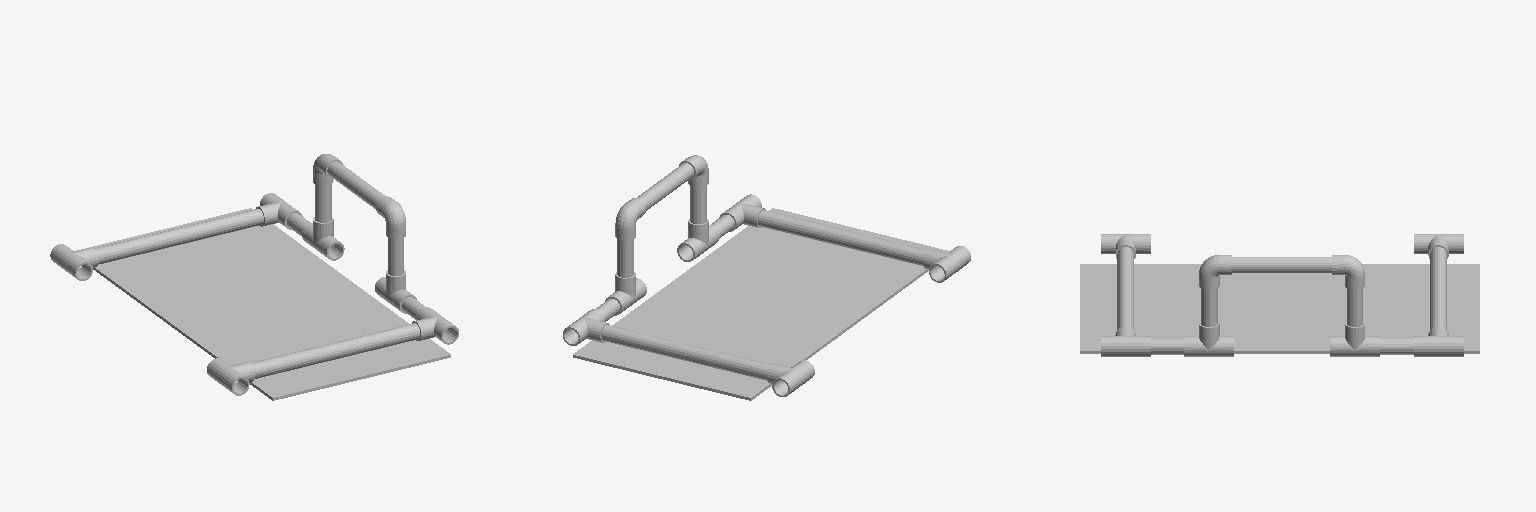
File: dzwignia_update (1).obj
3 renders of one model, left to right at view 1: azimuth 30°, elevation 25°; view 2: azimuth 150°, elevation 25°; view 3: azimuth 270°, elevation 25°, orthographic.
Visible parts, largest first — view 1: Bryła7, Bryła5, Bryła2, Bryła1, Bryła6, Bryła11, Bryła3, Bryła14, Bryła15, Bryła10, Bryła4, Bryła12 (+2 smaller); view 2: Bryła7, Bryła2, Bryła5, Bryła6, Bryła1, Bryła10, Bryła4, Bryła14, Bryła13, Bryła11, Bryła3, Bryła16 (+2 smaller); view 3: Bryła7, Bryła14, Bryła5, Bryła2, Bryła10, Bryła11, Bryła3, Bryła4, Bryła1, Bryła6, Bryła15, Bryła13 (+4 smaller).
Boxes of the visible parts, <box> form: Bryła7: <box>76,208,450,400</box>; Bryła5: <box>82,209,263,265</box>; Bryła2: <box>238,323,419,381</box>; Bryła1: <box>207,358,254,395</box>; Bryła6: <box>50,244,98,280</box>; Bryła11: <box>302,217,344,260</box>; Bryła3: <box>412,307,458,344</box>; Bryła14: <box>327,161,384,208</box>; Bryła15: <box>376,196,405,238</box>; Bryła10: <box>375,270,416,313</box>; Bryła4: <box>256,193,302,229</box>; Bryła12: <box>315,184,331,222</box>; Bryła7: <box>573,208,949,400</box>; Bryła2: <box>758,210,940,267</box>; Bryła5: <box>601,325,783,382</box>; Bryła6: <box>767,360,814,396</box>; Bryła1: <box>923,246,970,282</box>; Bryła10: <box>677,219,719,261</box>; Bryła4: <box>563,309,609,345</box>; Bryła14: <box>637,163,693,210</box>; Bryła13: <box>615,198,645,240</box>; Bryła11: <box>605,272,646,315</box>; Bryła3: <box>719,194,765,231</box>; Bryła16: <box>690,186,706,223</box>; Bryła7: <box>1080,264,1479,353</box>; Bryła14: <box>1232,257,1331,272</box>; Bryła5: <box>1430,247,1446,329</box>; Bryła2: <box>1117,247,1133,329</box>; Bryła10: <box>1184,321,1233,356</box>; Bryła11: <box>1330,321,1379,356</box>; Bryła3: <box>1101,326,1150,356</box>; Bryła4: <box>1414,326,1463,356</box>; Bryła1: <box>1101,234,1150,258</box>; Bryła6: <box>1414,234,1463,258</box>; Bryła15: <box>1199,255,1231,289</box>; Bryła13: <box>1332,255,1364,289</box>.
Size of the model in its own units: 400 by 173 by 610.